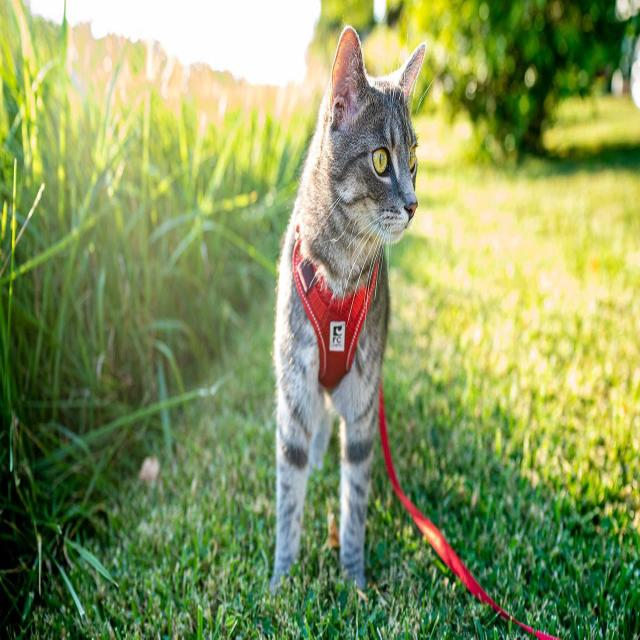cat: (264, 6, 405, 560)
